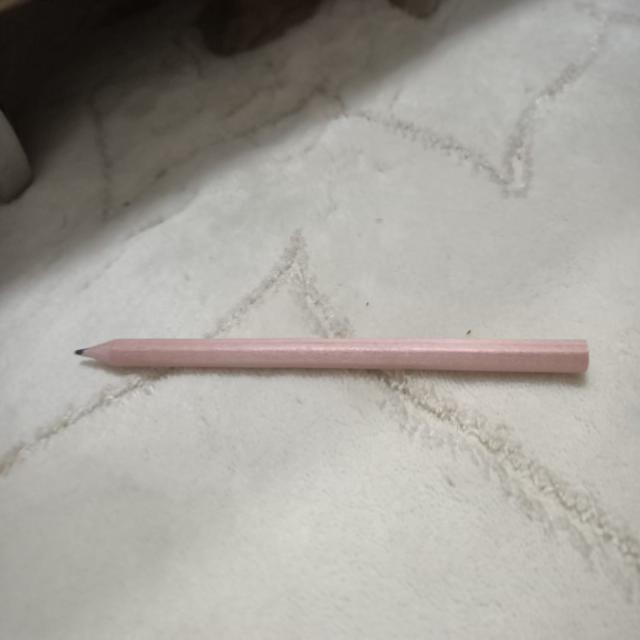pencil: (65, 314, 602, 397)
